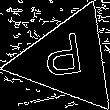P_S: (44, 32, 91, 87)
